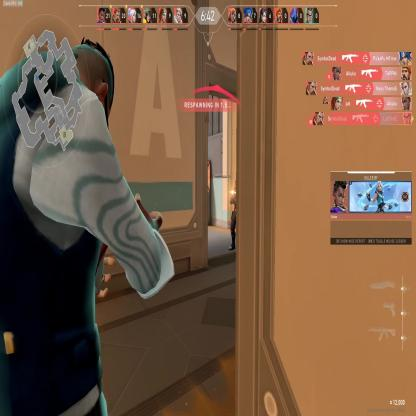enemy: (228, 179, 236, 252)
